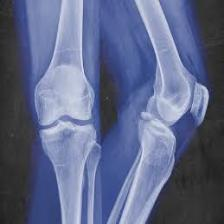impacted-fracture: (12, 0, 212, 224)
